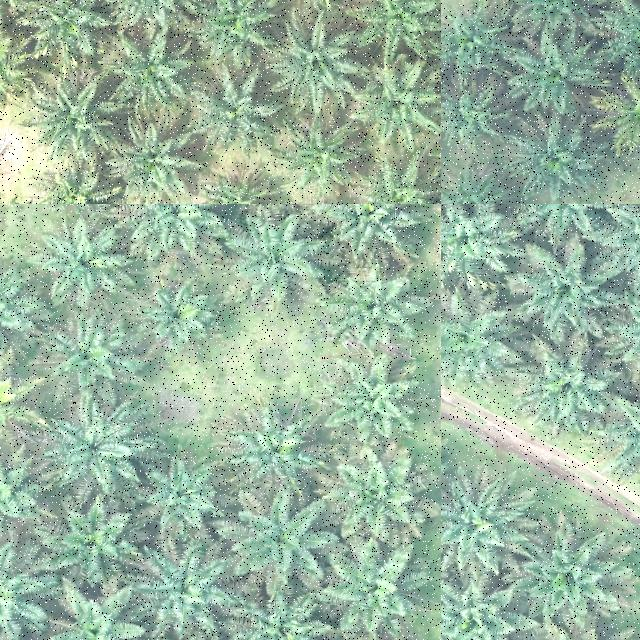Ganoderma: (0, 375, 20, 429)
